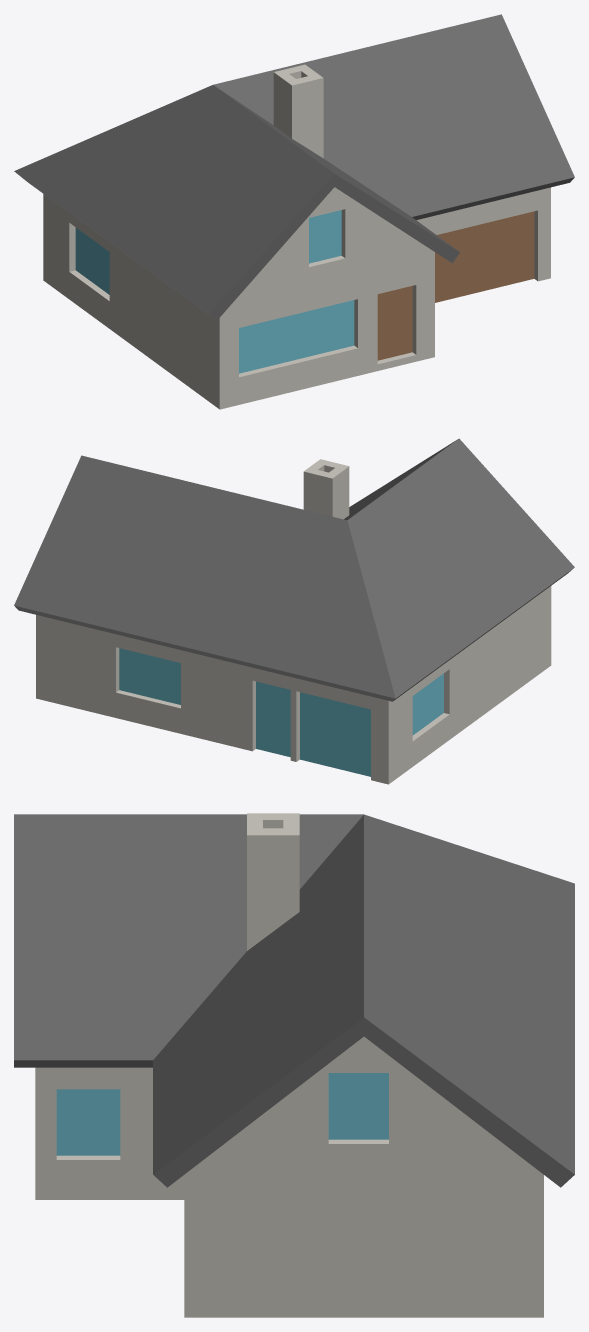
File: house_country.gltf
3 renders of one model, top to bottom at view 1: azimuth 30°, elevation 25°; view 2: azimuth 150°, elevation 25°; view 3: azimuth 270°, elevation 25°, orthographic. The views are drawn at different scales.
Parts seen in each view (by area): view 1: house-country_Cube.026; view 2: house-country_Cube.026; view 3: house-country_Cube.026.
Boxes of the visible parts, x1,y1,x2,y2 form: house-country_Cube.026: (14,14,574,409); house-country_Cube.026: (14,438,574,784); house-country_Cube.026: (14,813,574,1317).
Size of the model in its own units: 0.6452 by 0.3491 by 0.5253.
Materials: 1 (1 with a texture image).
